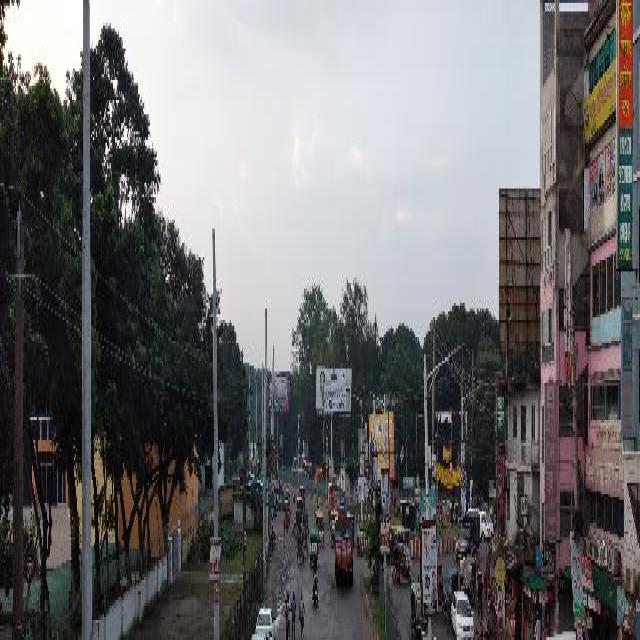auto rickshaw: (409, 578, 426, 638), (391, 538, 412, 582), (443, 567, 455, 622), (462, 556, 476, 598), (310, 527, 318, 564), (394, 492, 401, 514), (295, 507, 301, 527), (298, 486, 304, 503), (278, 492, 284, 508), (296, 497, 302, 509)
bus: (292, 454, 312, 477), (272, 441, 280, 473)
car: (451, 592, 473, 637), (256, 607, 276, 639)
motorbike: (312, 566, 318, 600), (488, 586, 497, 608), (356, 527, 362, 553), (292, 487, 294, 502)
pickup: (311, 466, 323, 488)
policecar: (454, 510, 480, 559)
rickshaw: (437, 563, 443, 614), (472, 546, 481, 574), (296, 531, 304, 560), (301, 521, 307, 553), (317, 520, 323, 543), (302, 506, 308, 528), (284, 500, 288, 523), (285, 489, 289, 500)
truck: (333, 506, 353, 580), (327, 482, 345, 518)
van: (479, 507, 493, 539)
